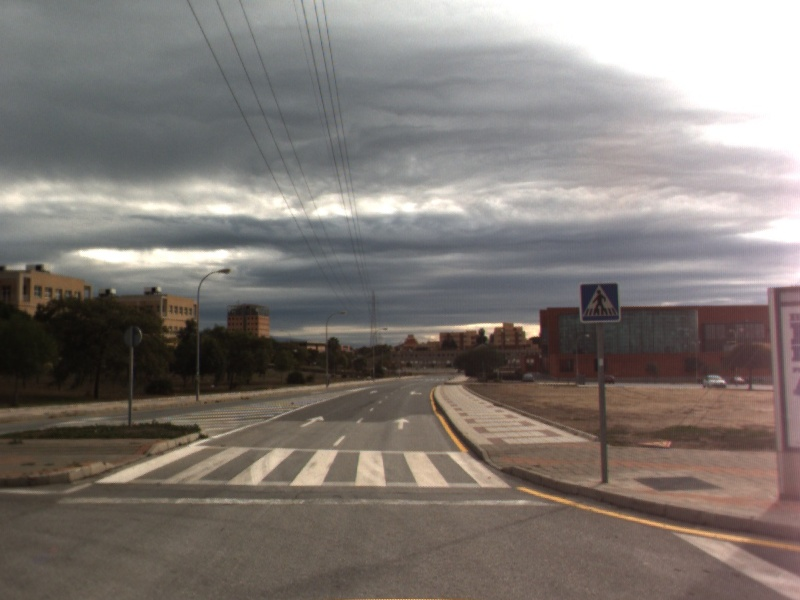STRAIGHT: (298, 414, 326, 429), (391, 415, 412, 432)
